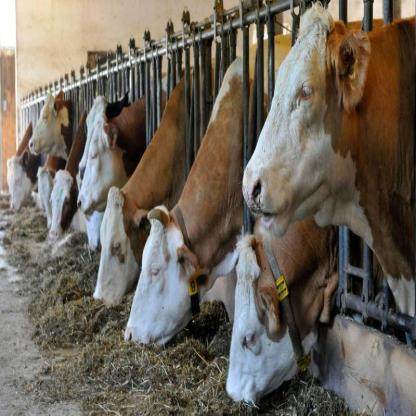cow: (242, 6, 416, 319), (124, 31, 292, 343), (93, 57, 218, 311), (224, 201, 338, 403), (78, 66, 196, 217), (79, 70, 169, 181), (49, 107, 87, 241), (28, 90, 75, 162), (7, 118, 41, 212), (37, 149, 68, 229)
